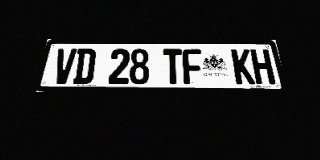2: (108, 49, 130, 84)
8: (129, 49, 149, 84)
D: (72, 49, 96, 84)
F: (182, 49, 203, 84)
H: (250, 49, 276, 84)
K: (231, 49, 255, 84)
T: (163, 49, 183, 84)
V: (51, 48, 77, 84)
